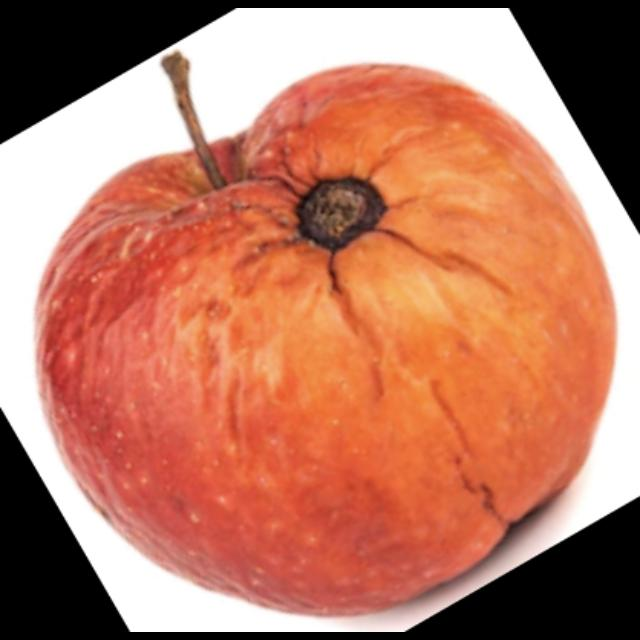Apel Tidak Segar: (28, 64, 610, 614)
